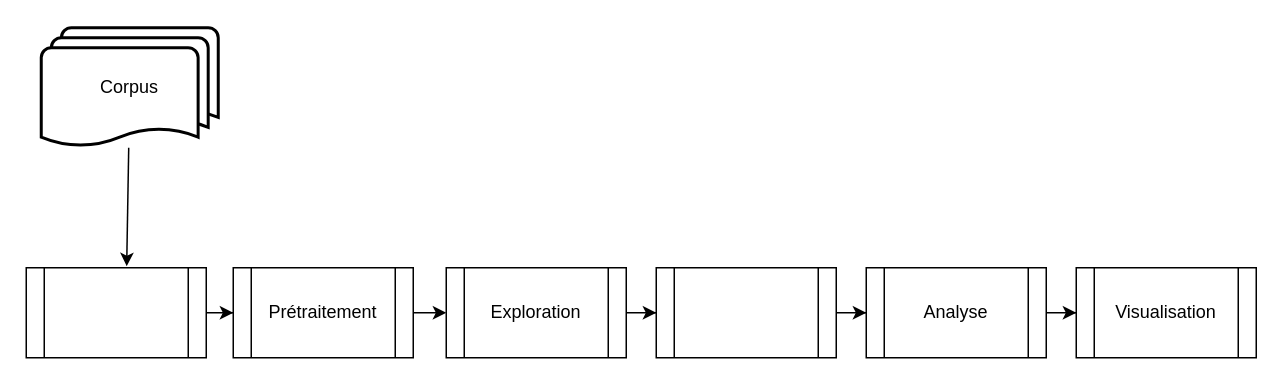
Image size: 1283x384. Some labels were removed from this diagram. Here are the shapes that lost their labels. From the top down, the box of each, then its label:
(25, 266, 206, 358): Importation
(655, 266, 836, 358): Enrichissement
